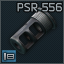AWC PSR 5.56x45 muzzle brake: (0, 0, 64, 64)
